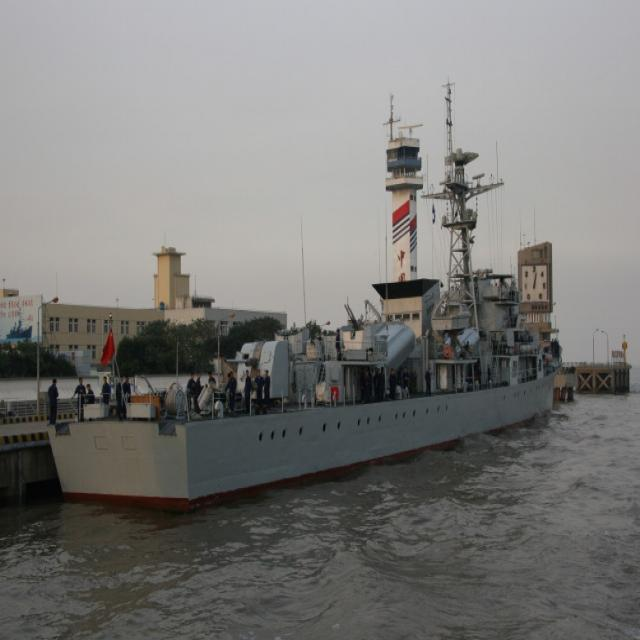Fragata: (36, 73, 566, 518)
